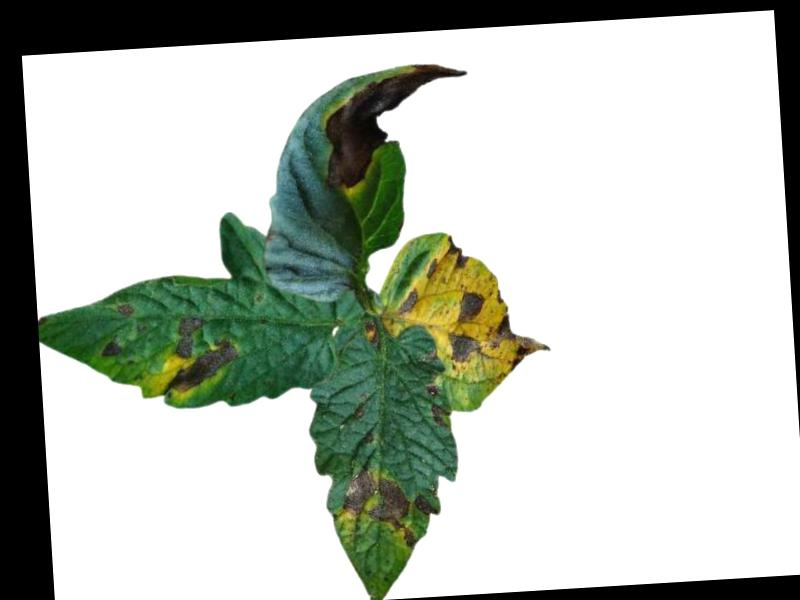Early_blight: (319, 60, 473, 189), (340, 462, 418, 552), (159, 312, 241, 396), (483, 311, 557, 372), (445, 328, 482, 364), (454, 287, 489, 325), (424, 381, 448, 425), (443, 233, 470, 268), (414, 491, 441, 518), (395, 286, 420, 315), (101, 337, 122, 360), (426, 255, 441, 279), (365, 321, 379, 345), (117, 302, 135, 315)
